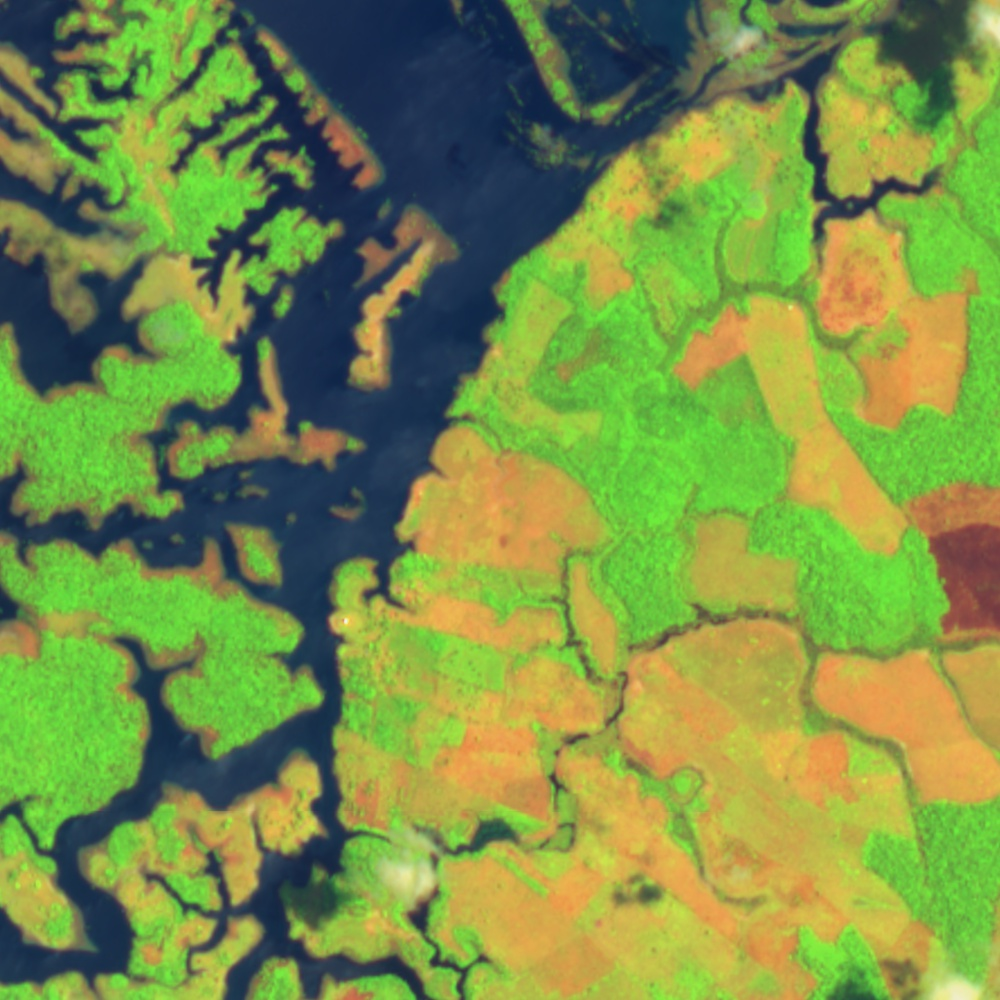legal: (1, 1, 999, 998)
